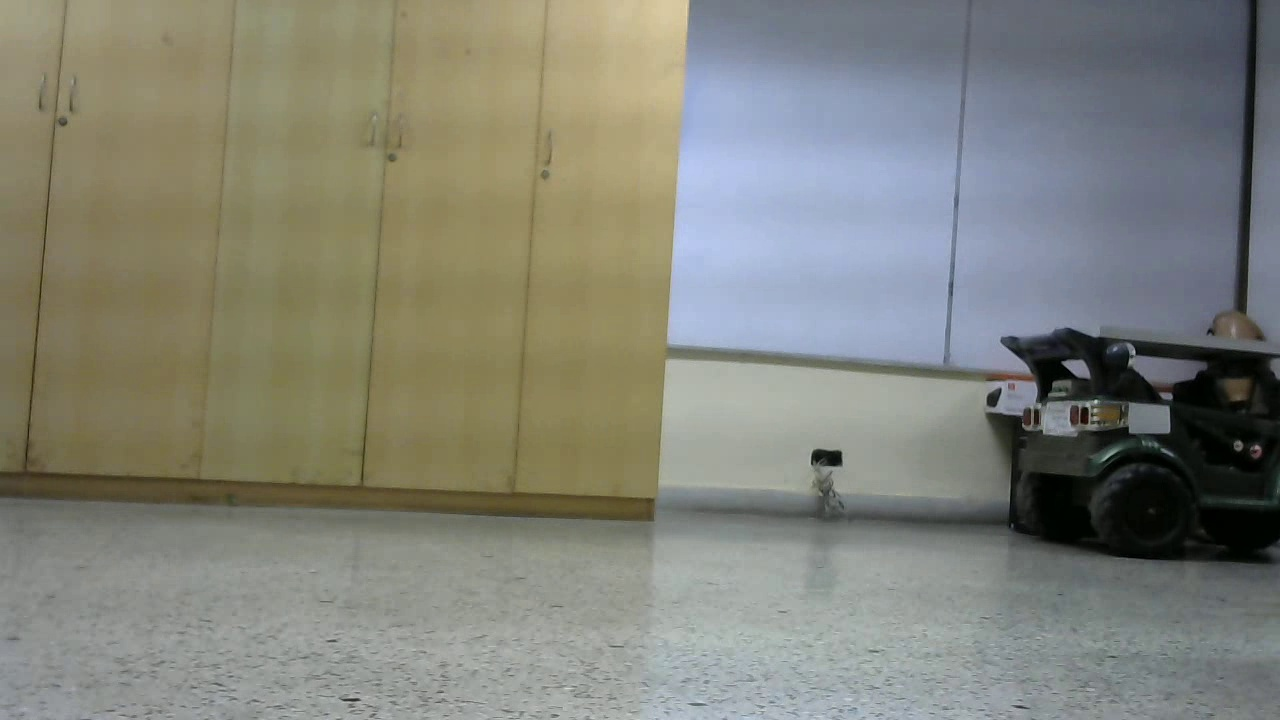chair: (1085, 50, 1280, 657), (549, 100, 793, 574)
